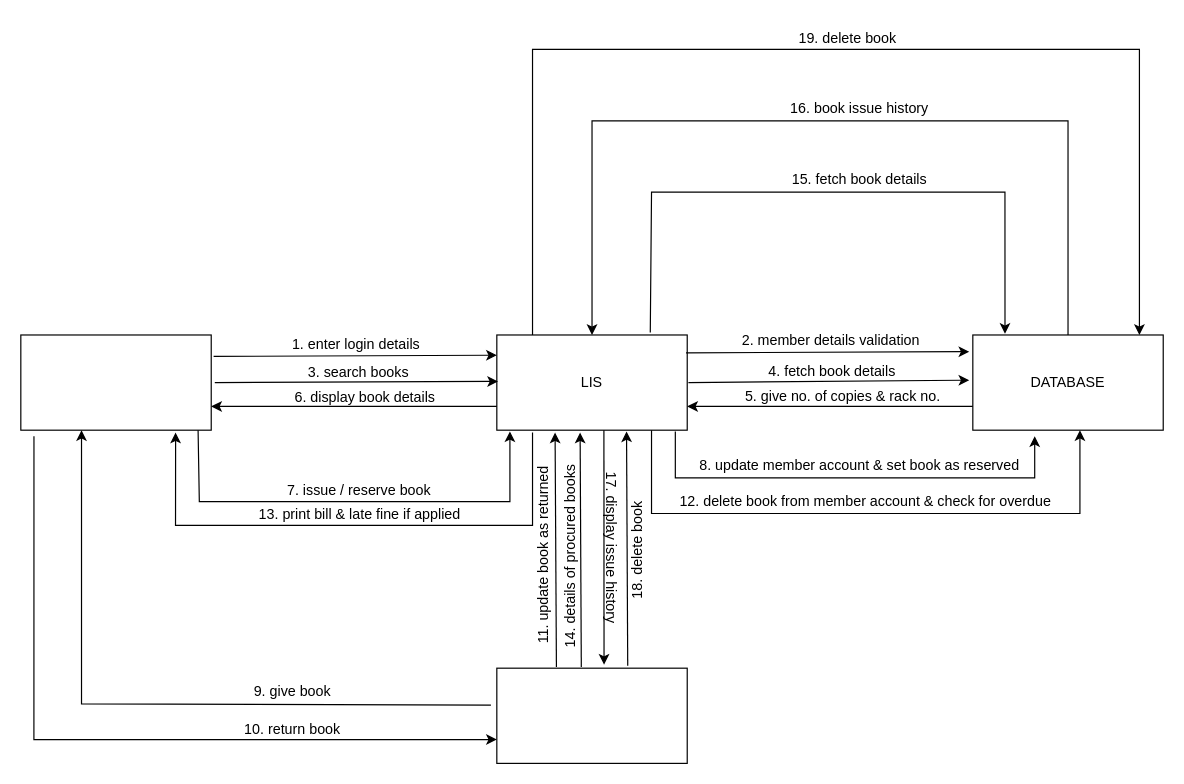
This 1184x784 diagram has some shape labels left out. Each missing label, with the centre of its shape:
LIBRARIAN: point 591,715
MEMBER: point 115,382
